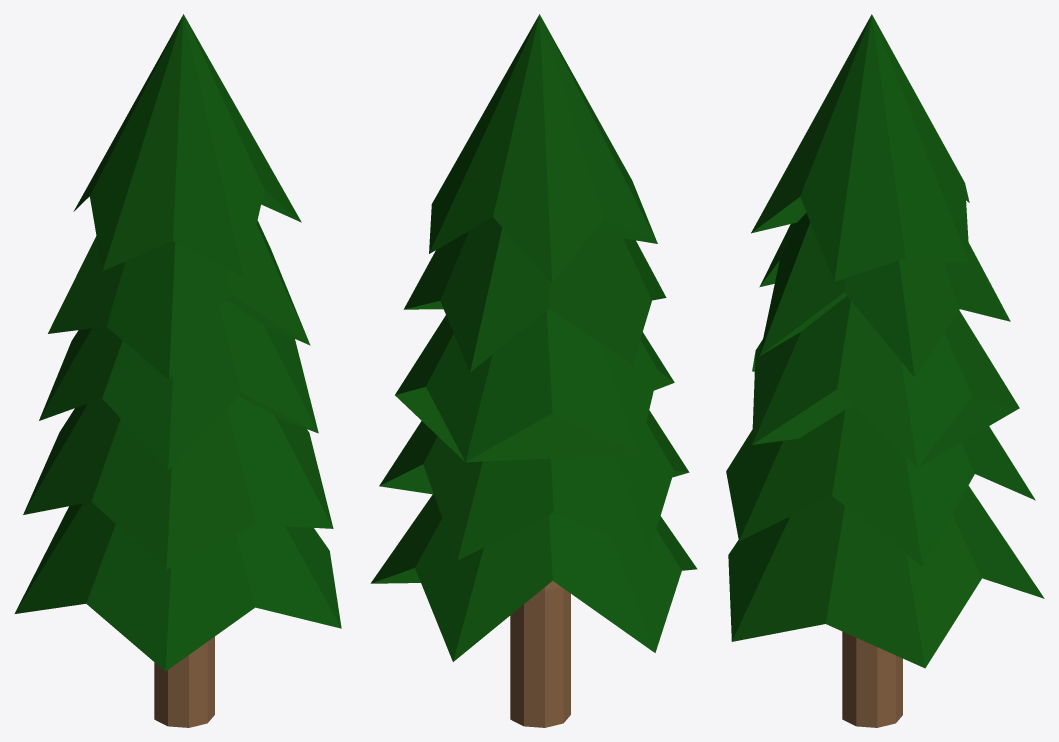
Rendered from Fir_3.fbx.
3 renders of one model, left to right at view 1: azimuth 30°, elevation 25°; view 2: azimuth 150°, elevation 25°; view 3: azimuth 270°, elevation 25°, orthographic.
Parts seen in each view (by area): view 1: Fir3_mesh; view 2: Fir3_mesh; view 3: Fir3_mesh.
Part boxes in pixels (left/top/right/bottom): Fir3_mesh: left=14, top=14, right=341, bottom=727; Fir3_mesh: left=370, top=14, right=697, bottom=727; Fir3_mesh: left=726, top=14, right=1044, bottom=727.
Size of the model in its own units: 450 by 1056 by 435.
